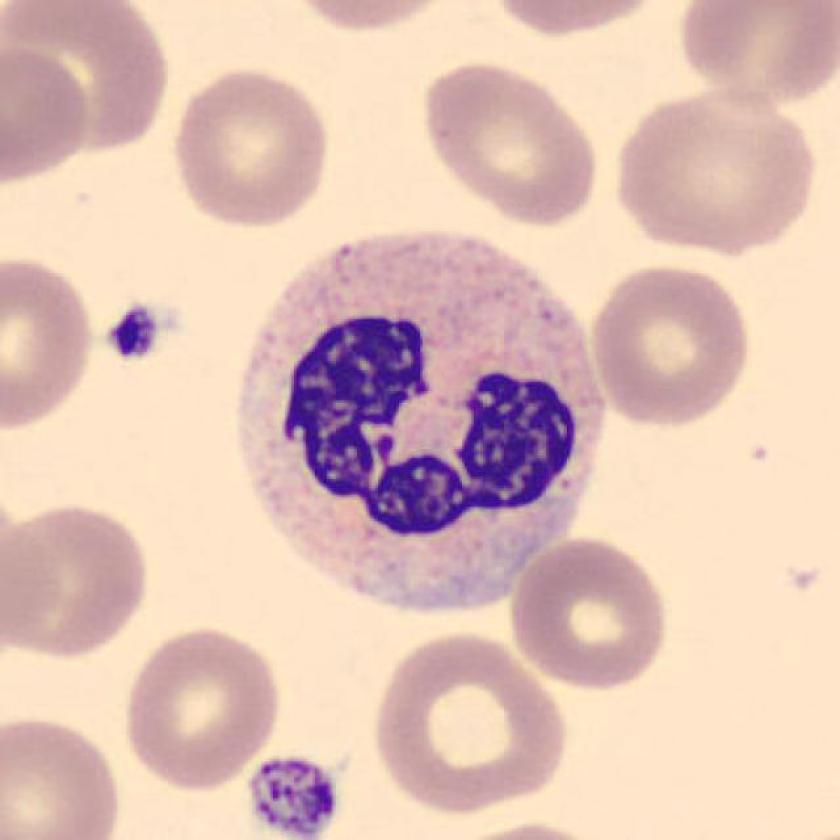neutrophil: (237, 233, 601, 610)
